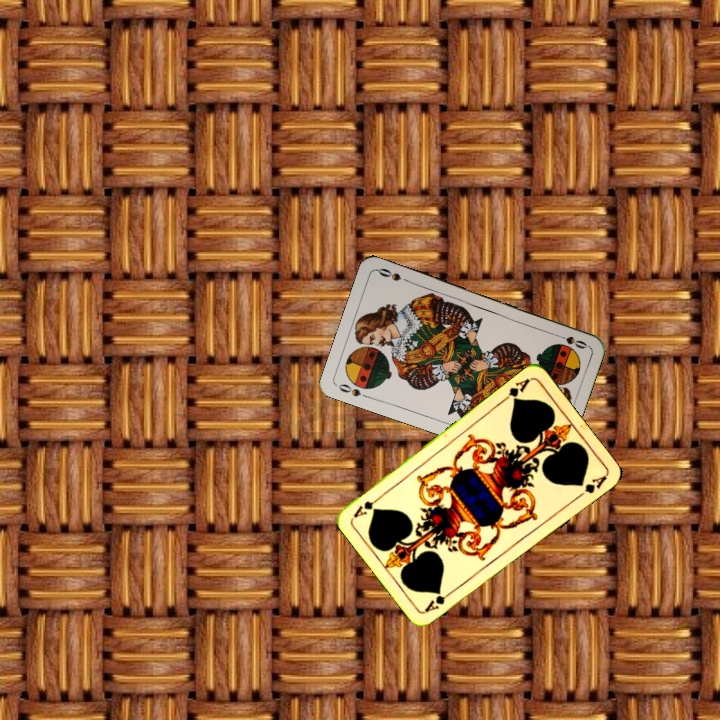GA: (498, 374, 533, 405), (421, 586, 457, 615)
SO: (551, 329, 590, 351), (334, 380, 373, 401)
